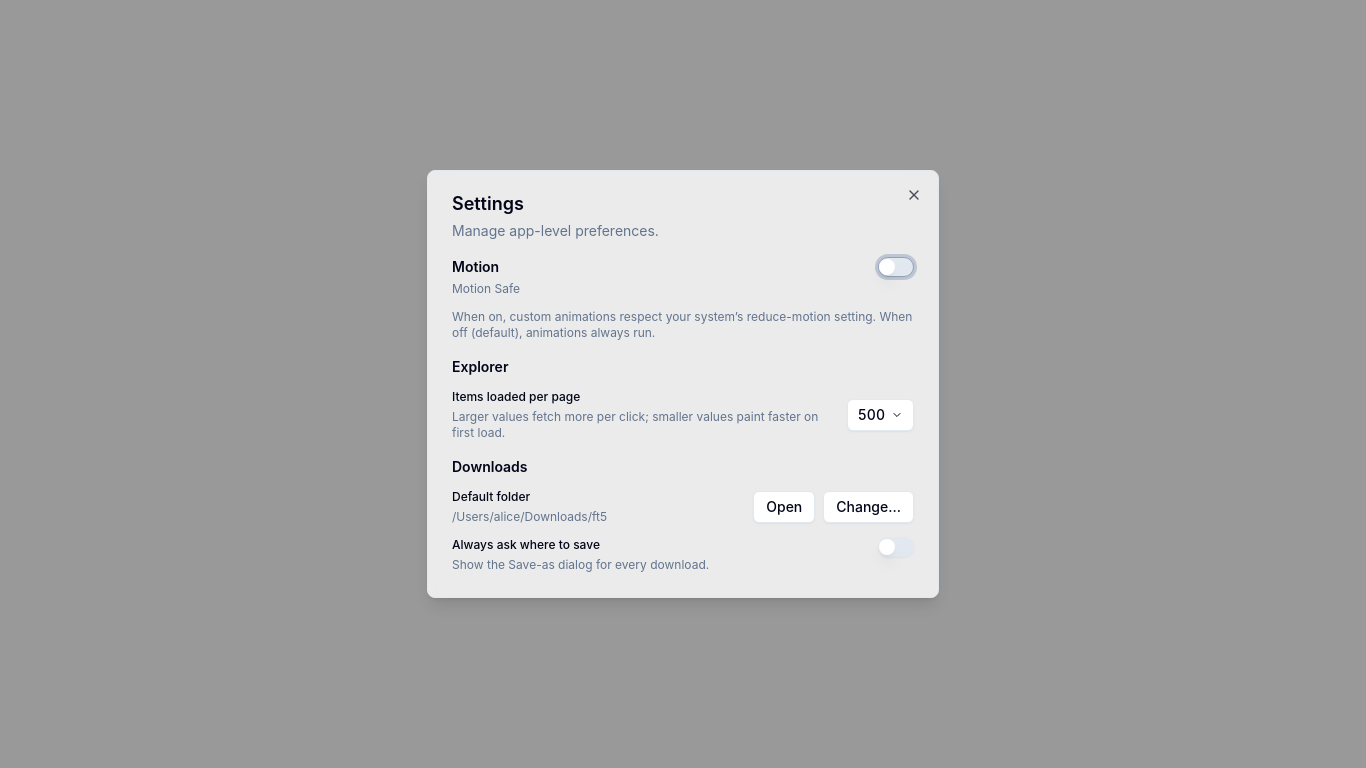
Scenario: SettingsDialog — Downloads section › Change opens the OS picker with directory-pick properties and updates the store on confirm
Click the button "Change…": (869, 507) left=823, top=491, right=914, bottom=523
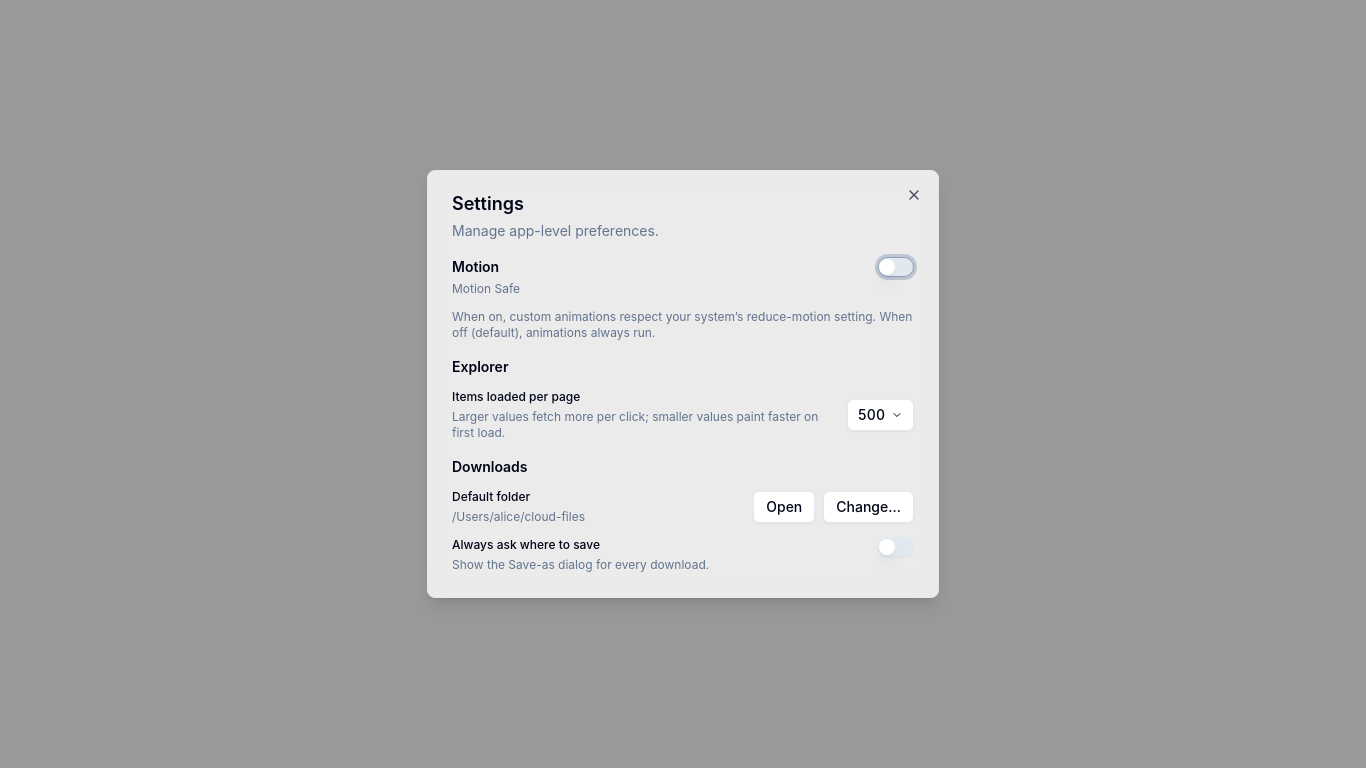
expect the text "/Users/alice/cloud-files" is shown: met, box left=452, top=509, right=585, bottom=524
